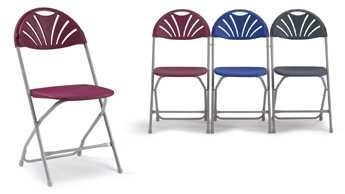obstacle: (14, 8, 121, 185), (270, 9, 332, 132), (148, 9, 209, 132), (211, 9, 268, 132)
